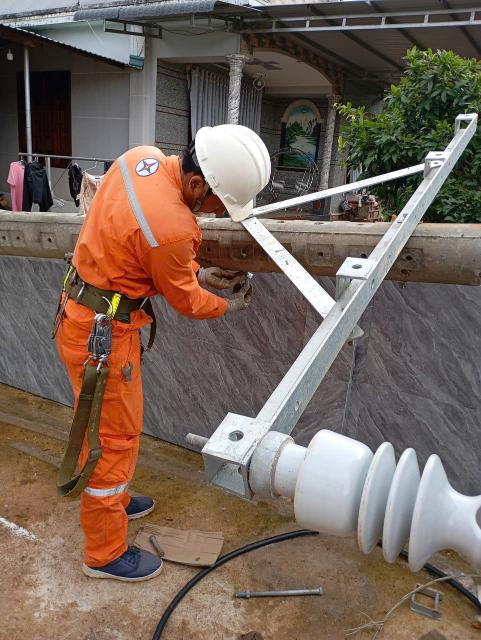gloves: (185, 238, 254, 294), (201, 281, 262, 317)
harness: (53, 251, 165, 334)
helmet: (178, 115, 287, 228)
shoes: (90, 522, 168, 584), (107, 480, 163, 523)
